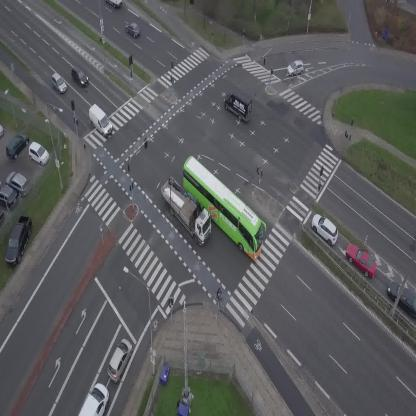bicycle: (213, 288, 226, 309)
bus: (168, 152, 278, 263)
car: (341, 238, 383, 282), (103, 336, 137, 384), (306, 209, 344, 247), (76, 381, 117, 416), (67, 64, 92, 90), (46, 71, 69, 96), (122, 19, 144, 40), (285, 59, 305, 77)
lorry: (150, 173, 221, 247), (219, 86, 259, 124), (84, 102, 116, 137), (105, 0, 122, 8)
